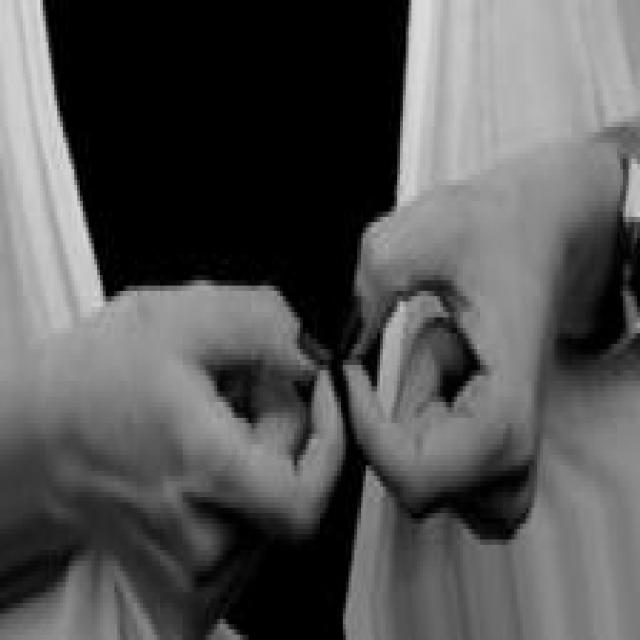B: (88, 190, 576, 640)
